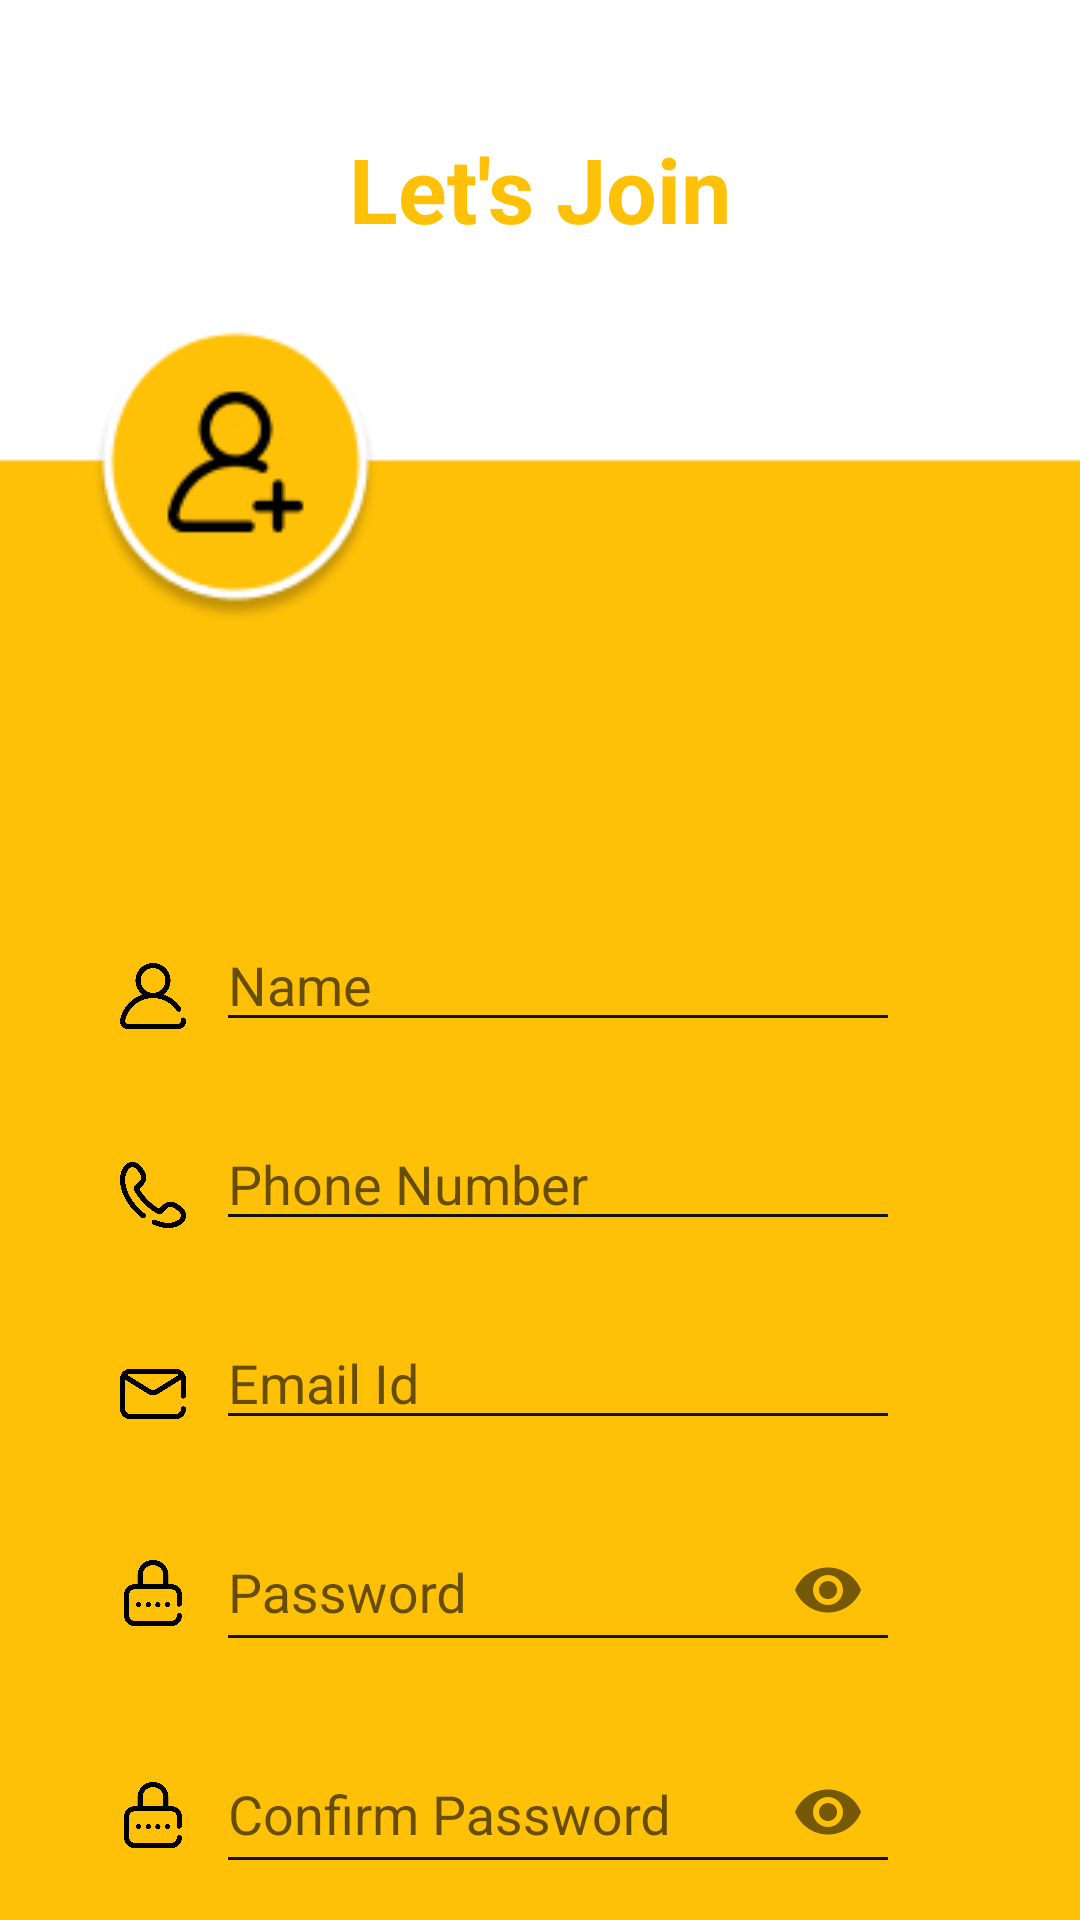

Screen size 1080×1920. Icon name, then its center in pixels as (x=x, y=y):
user: (x=153, y=996)
